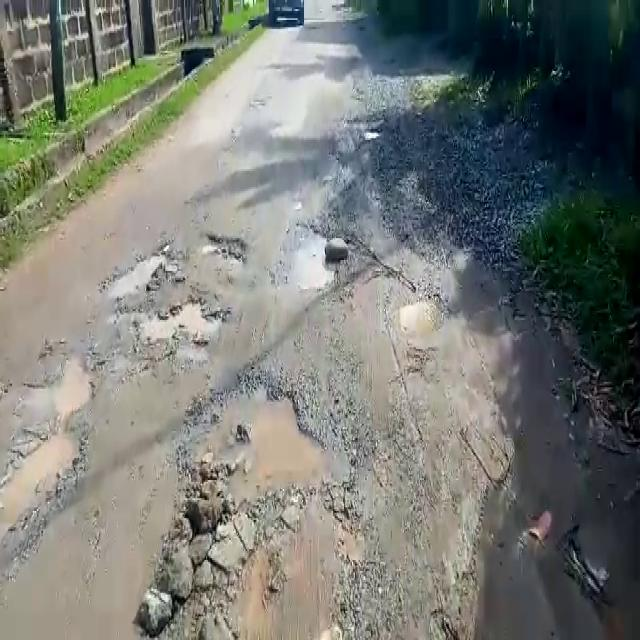Pothole: (177, 374, 366, 529), (2, 420, 88, 537), (132, 280, 231, 347), (21, 352, 96, 414), (278, 220, 336, 292), (104, 244, 166, 294), (392, 292, 447, 341)
